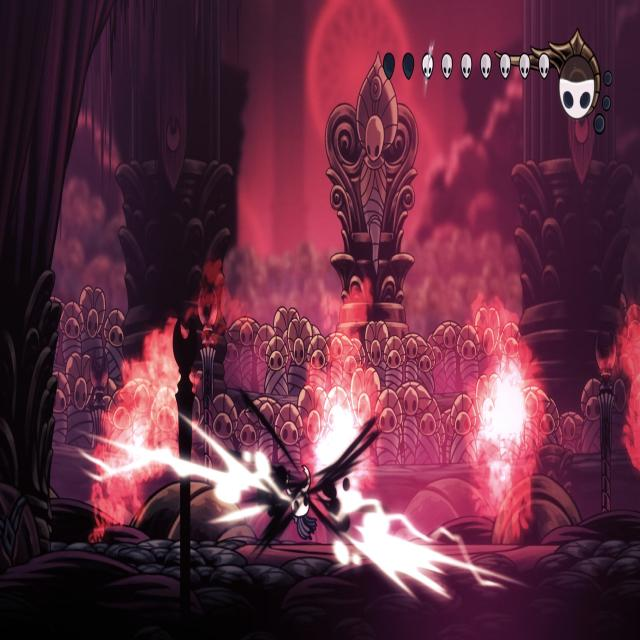Fireball: (469, 353, 530, 507), (312, 394, 370, 520), (101, 388, 169, 489)
Player: (283, 452, 318, 547)
